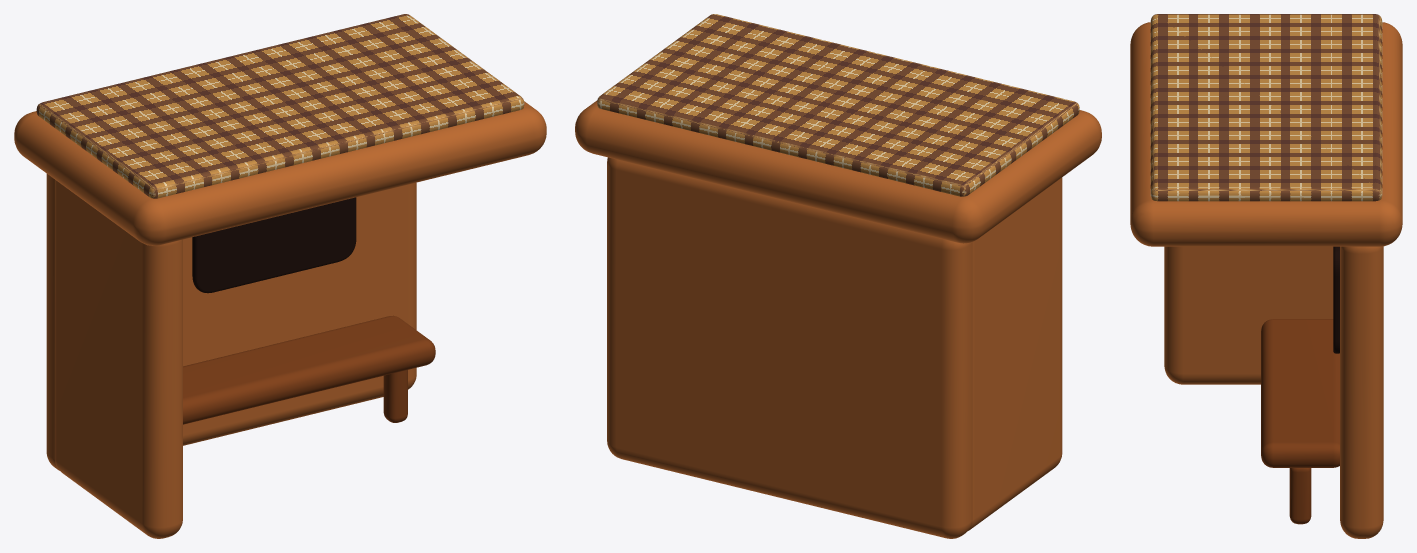
The model's file is bus_shelter.glb.
The picture shows the model from 3 angles, left to right: view 1: azimuth 30°, elevation 25°; view 2: azimuth 150°, elevation 25°; view 3: azimuth 270°, elevation 25°; orthographic projection. The views are drawn at different scales.
Visible parts, largest first — view 1: bus_shelter; view 2: bus_shelter; view 3: bus_shelter.
Part boxes in pixels (<box>): bus_shelter: <box>14,14,546,538</box>; bus_shelter: <box>575,14,1101,538</box>; bus_shelter: <box>1130,14,1402,538</box>.
Bounding box in the file's own units: 3.4 × 2.9 × 2.
Materials: 4 (1 with a texture image).
